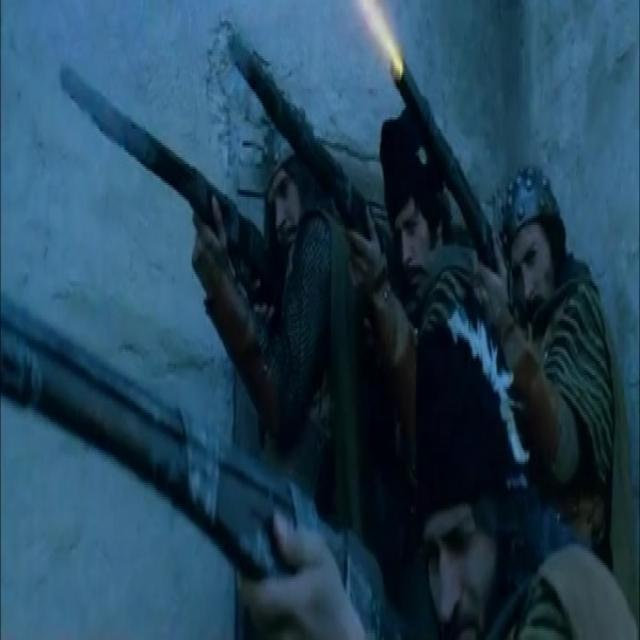rifle: (1, 282, 406, 638), (230, 29, 375, 238), (386, 46, 499, 274)
